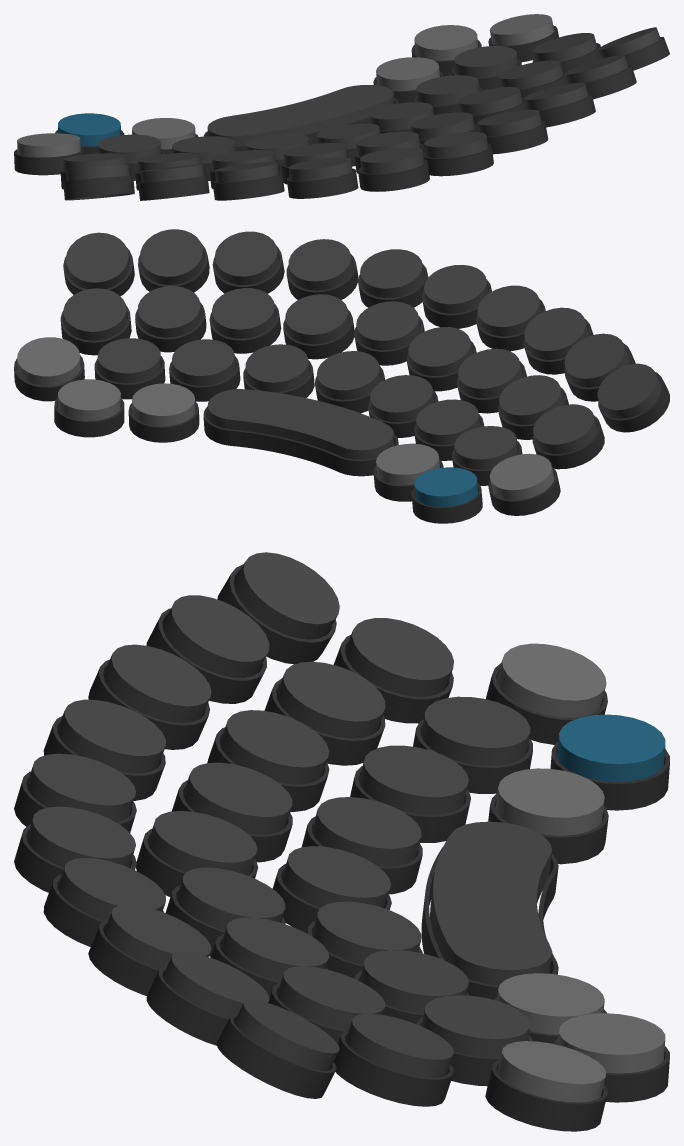
Rendered from Punchkeyboard_2.0.fbx.
The picture shows the model from 3 angles, top to bottom: view 1: azimuth 30°, elevation 25°; view 2: azimuth 150°, elevation 25°; view 3: azimuth 270°, elevation 25°; orthographic projection. The views are drawn at different scales.
Visible parts, largest first — view 1: _SpaceKey, _SpecialKey, _CommaKey, _ZKey, _ShiftKey, _ReturnKey, _XKey, Housing_10, _YKey, _TKey, _BackspaceKey, _DKey (+39 smaller); view 2: _SpaceKey, Housing_27, _QKey, _WKey, _EKey, _AKey, _SKey, _RKey, _PKey, _DKey, _FKey, _ShiftKey (+53 smaller); view 3: _SpaceKey, _PKey, _LKey, _BackspaceKey, _OKey, _KKey, _ReturnKey, _MKey, _IKey, _PeriodKey, _NKey, _JKey (+49 smaller).
Part boxes in pixels (<box>): _SpaceKey: <box>207,85,394,145</box>; _SpecialKey: <box>414,25,478,60</box>; _CommaKey: <box>376,57,439,90</box>; _ZKey: <box>454,46,518,77</box>; _ShiftKey: <box>489,14,554,45</box>; _ReturnKey: <box>58,113,120,146</box>; _XKey: <box>416,75,479,105</box>; Housing_10: <box>63,176,134,200</box>; _YKey: <box>360,147,424,173</box>; _TKey: <box>424,132,488,158</box>; _BackspaceKey: <box>17,133,80,157</box>; _DKey: <box>458,87,522,115</box>; _SpaceKey: <box>207,389,394,459</box>; Housing_27: <box>203,406,398,476</box>; _QKey: <box>65,232,129,289</box>; _WKey: <box>140,229,204,284</box>; _EKey: <box>214,231,279,284</box>; _AKey: <box>63,288,127,340</box>; _SKey: <box>137,286,201,337</box>; _RKey: <box>288,239,353,290</box>; _PKey: <box>597,363,661,418</box>; _DKey: <box>212,288,276,338</box>; _FKey: <box>285,294,349,344</box>; _ShiftKey: <box>17,337,80,385</box>; _SpaceKey: <box>430,821,552,985</box>; _PKey: <box>233,552,339,639</box>; _LKey: <box>345,618,453,696</box>; _BackspaceKey: <box>497,643,606,717</box>; _OKey: <box>162,595,269,677</box>; _KKey: <box>276,661,385,738</box>; _ReturnKey: <box>557,714,665,781</box>; _MKey: <box>421,696,530,765</box>; _IKey: <box>103,644,211,722</box>; _PeriodKey: <box>495,768,604,835</box>; _NKey: <box>359,745,468,814</box>; _JKey: <box>220,710,329,784</box>.
Size of the model in its own units: 78.42 by 11.9 by 44.01.
